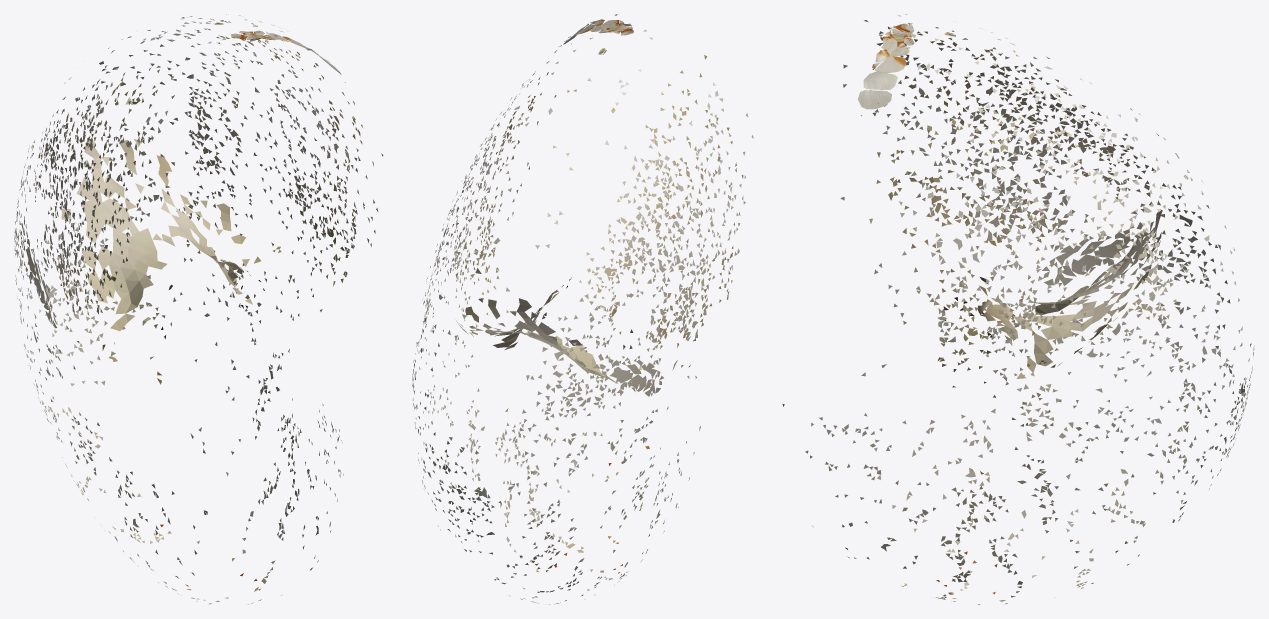
The model's file is nautilus_shell.glb.
3 views of the same model, side by side, from view 1: azimuth 30°, elevation 25°; view 2: azimuth 150°, elevation 25°; view 3: azimuth 270°, elevation 25° (orthographic). The views are drawn at different scales.
Visible parts, largest first — view 1: Object_19, Object_4, Object_17, Object_16, Object_12, Object_13, Object_3, Object_7, Object_11, Object_6, Object_15, Object_5 (+7 smaller); view 2: Object_19, Object_18, Object_6, Object_11, Object_12, Object_10, Object_13, Object_2, Object_5, Object_17, Object_7, Object_15 (+6 smaller); view 3: Object_19, Object_2, Object_17, Object_5, Object_13, Object_11, Object_12, Object_14, Object_16, Object_4, Object_10, Object_3 (+6 smaller).
Boxes of the visible parts, x1,y1,x2,y2 form: Object_19: (61,137,252,331); Object_4: (84,18,291,296); Object_17: (48,14,367,214); Object_16: (108,15,352,570); Object_12: (27,126,182,567); Object_13: (24,135,194,575); Object_3: (156,17,349,311); Object_7: (27,239,266,601); Object_11: (14,136,179,583); Object_6: (45,39,383,301); Object_15: (189,163,375,574); Object_5: (45,75,378,361); Object_19: (475,298,617,383); Object_18: (434,29,723,456); Object_6: (487,55,732,498); Object_11: (557,130,745,562); Object_12: (608,113,753,564); Object_10: (412,124,745,570); Object_13: (604,108,743,567); Object_2: (445,19,633,325); Object_5: (485,72,724,387); Object_17: (423,45,710,409); Object_7: (427,433,621,604); Object_15: (417,199,567,558); Object_19: (1013,209,1162,378); Object_2: (857,23,1145,383); Object_17: (899,42,1242,346); Object_5: (869,113,1089,323); Object_13: (883,49,1132,518); Object_11: (882,63,1190,544); Object_12: (843,61,1123,526); Object_14: (855,119,1203,598); Object_16: (879,33,1242,596); Object_4: (872,83,1176,318); Object_10: (870,56,1229,486); Object_3: (927,50,1166,387).
Size of the model in its own units: 76.69 by 165 by 124.
Materials: 1 (1 with a texture image).
